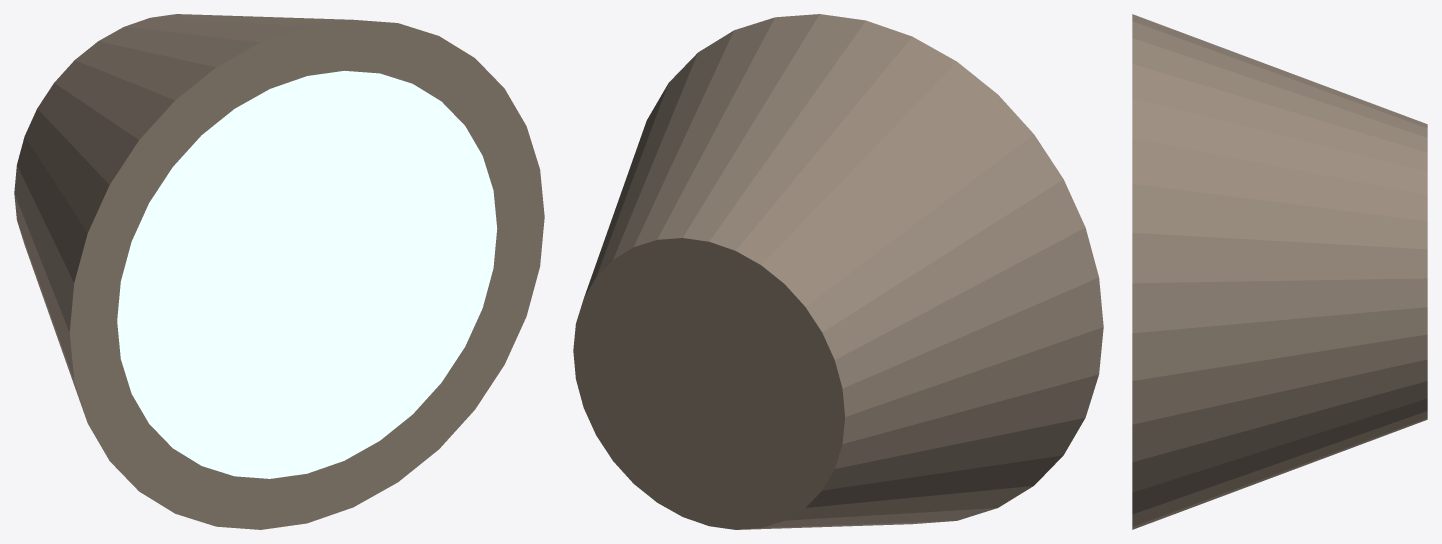
File: hovercraft_thruster.fbx
3 renders of one model, left to right at view 1: azimuth 30°, elevation 25°; view 2: azimuth 150°, elevation 25°; view 3: azimuth 270°, elevation 25°, orthographic. The views are drawn at different scales.
Visible parts, largest first — view 1: Cylinder; view 2: Cylinder; view 3: Cylinder.
Part boxes in pixels (x1,y1,x2,y2): Cylinder: (14,14,544,529); Cylinder: (573,14,1103,529); Cylinder: (1132,14,1427,529).
Size of the model in its own units: 0.5299 by 0.5299 by 0.3032.
